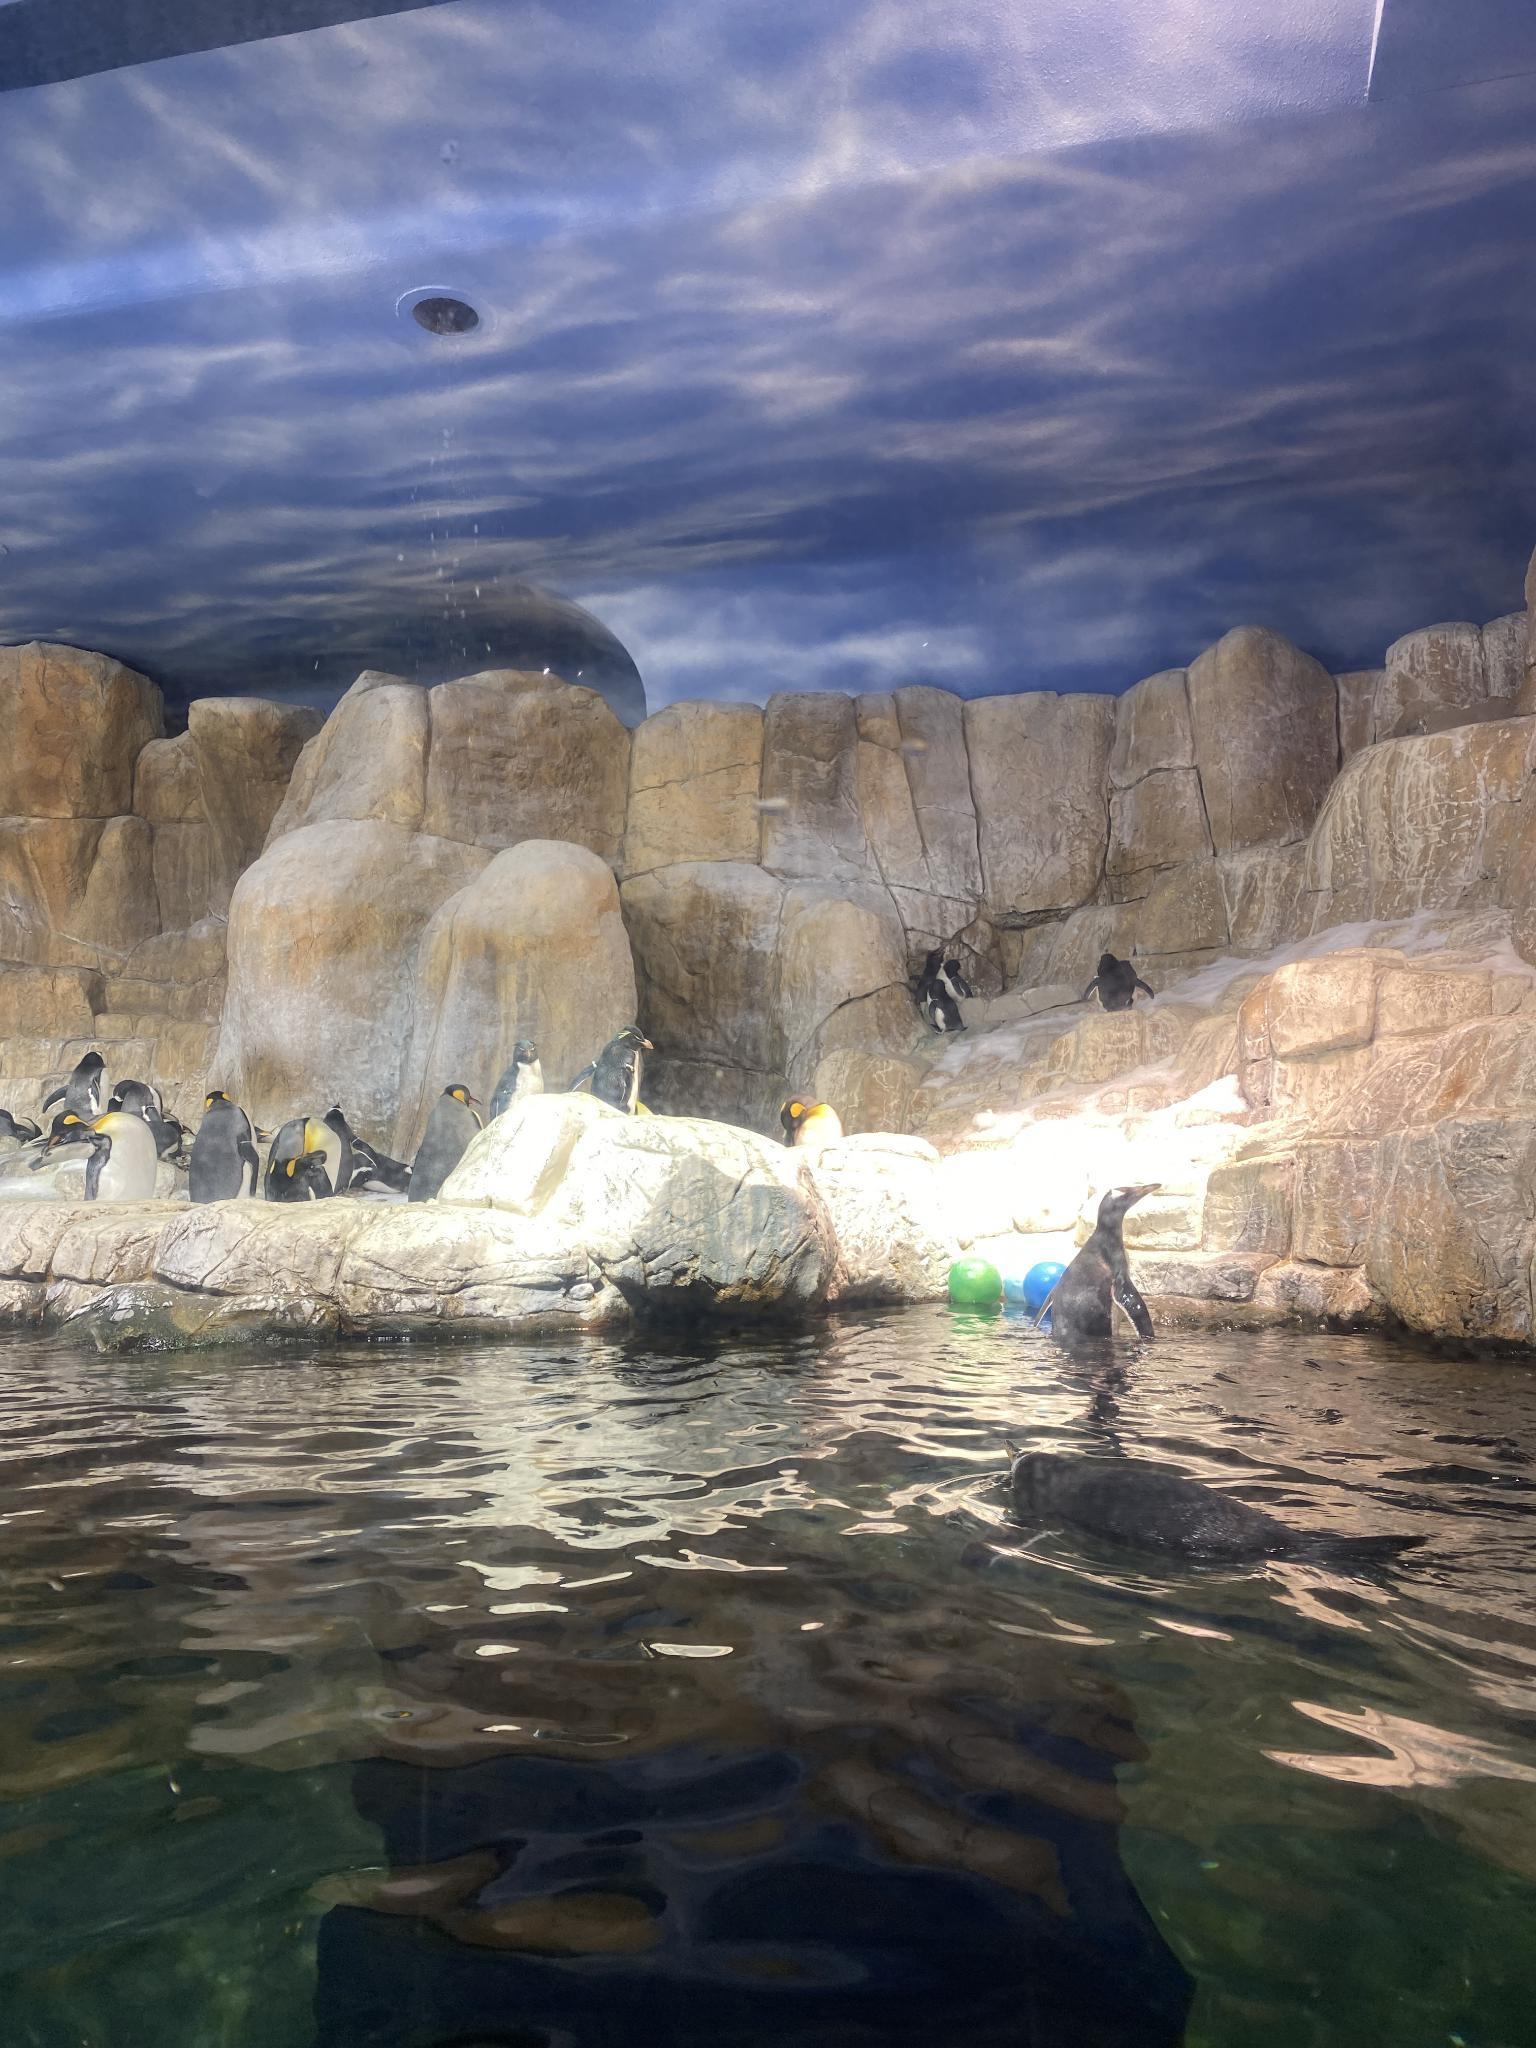penguin: (994, 1450, 1425, 1601), (1042, 1180, 1160, 1347), (44, 1106, 161, 1205), (566, 1026, 657, 1119), (413, 1082, 479, 1197), (192, 1092, 260, 1201), (105, 1079, 182, 1163), (913, 945, 978, 1034), (342, 1137, 419, 1197), (266, 1100, 311, 1200), (45, 1050, 103, 1122), (1087, 951, 1150, 1014), (321, 1100, 360, 1197), (495, 1040, 541, 1118), (779, 1097, 841, 1147), (0, 1113, 40, 1151)
